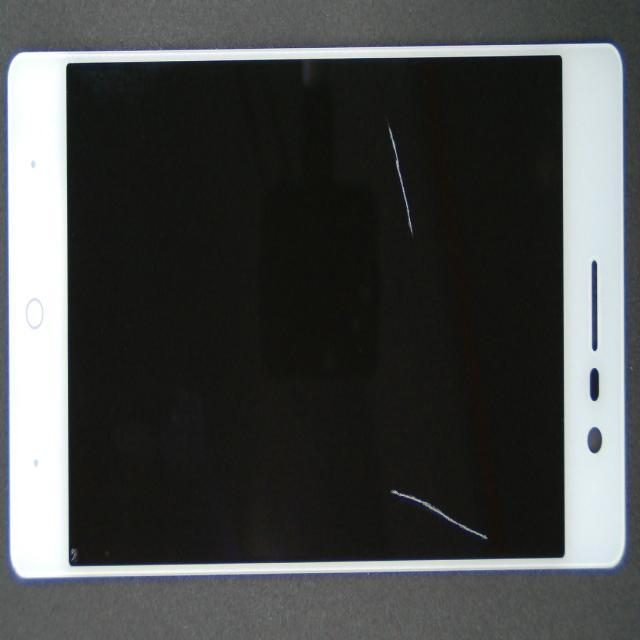scratch: (392, 492, 488, 545), (388, 126, 415, 236)
